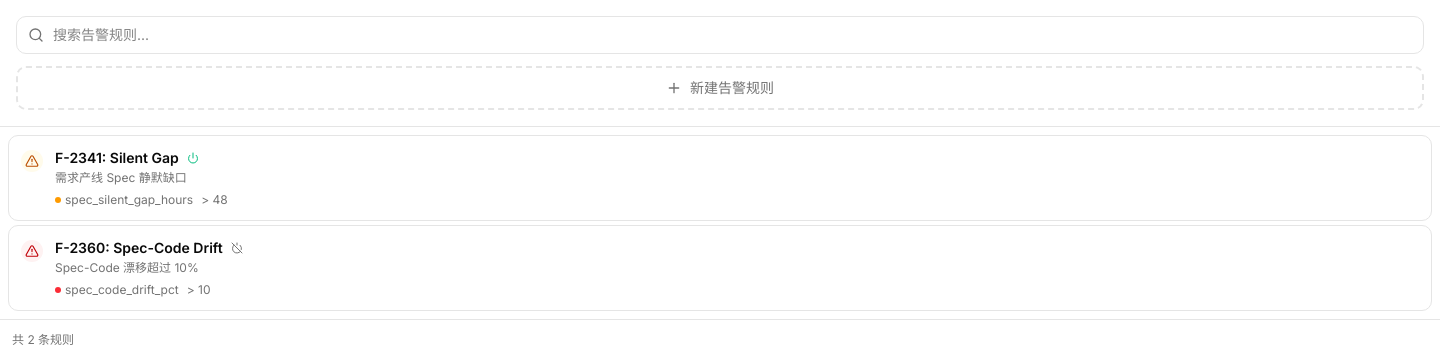
it: AlertRuleList › filters rules by metric
This screenshot has width=1440, height=362.
Type "silent_gap" into the field with placeholder "搜索告警规则..." at coordinates (720, 35), box [16,16,1424,54]
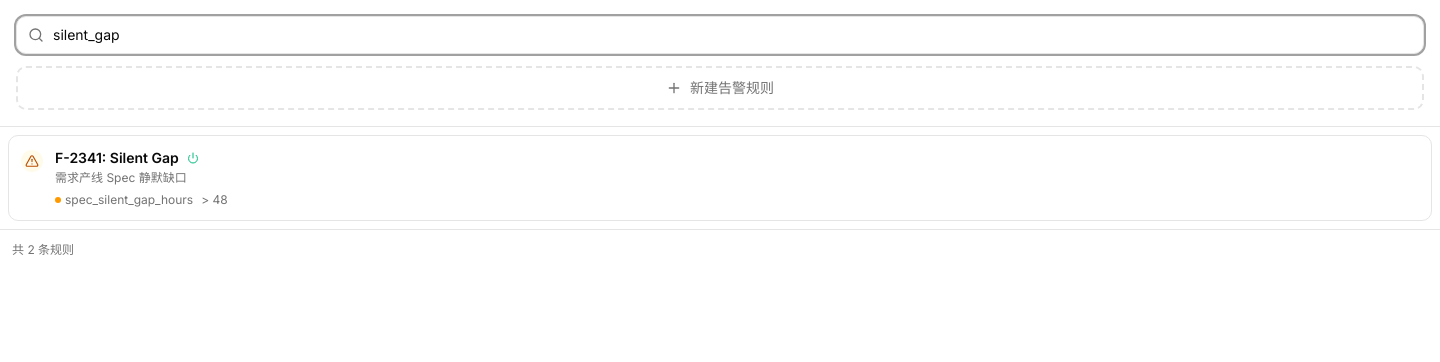
Expected: the heading "F-2341: Silent Gap" is shown, [55,148,179,168]
Now the button "F-2360: Spec-Code Drift" is gone
